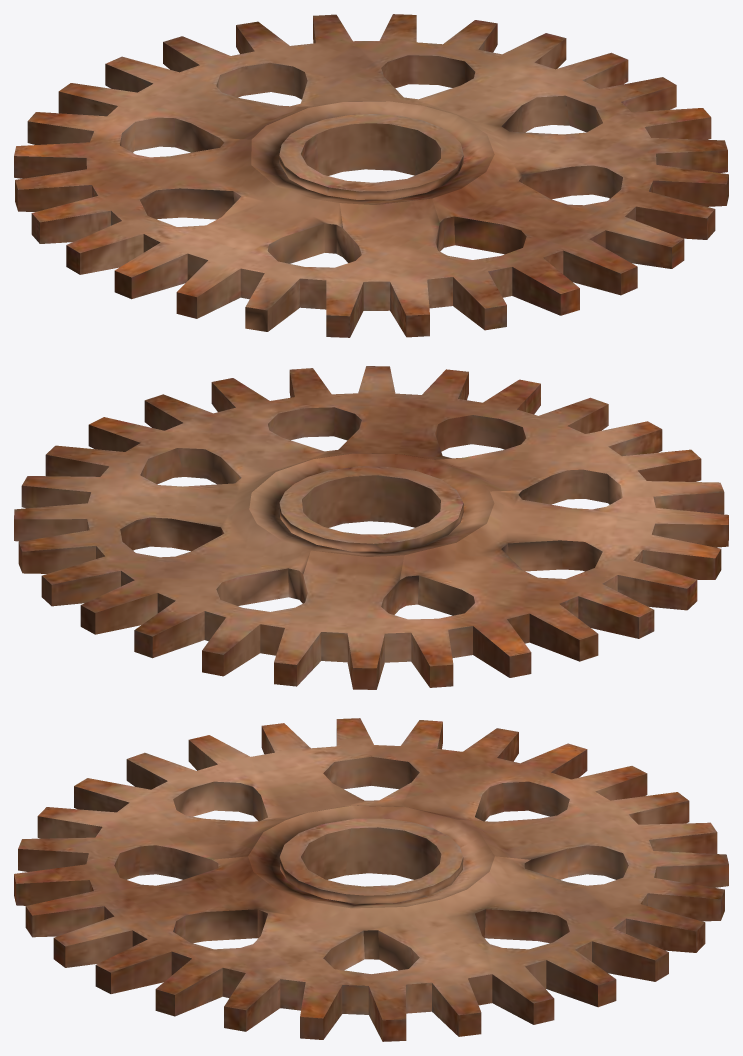
File: steampunk_gear_04.glb
3 views of the same model, one above another, from view 1: azimuth 30°, elevation 25°; view 2: azimuth 150°, elevation 25°; view 3: azimuth 270°, elevation 25° (orthographic).
Parts seen in each view (by area): view 1: steampunk_gear_04; view 2: steampunk_gear_04; view 3: steampunk_gear_04.
Part boxes in pixels (x1,y1,x2,y2): steampunk_gear_04: (14, 14, 728, 337); steampunk_gear_04: (14, 366, 728, 689); steampunk_gear_04: (14, 718, 728, 1041).
Size of what is drawn, in the model's own units: 0.1762 by 0.0125 by 0.1762.
Materials: 1 (1 with a texture image).
